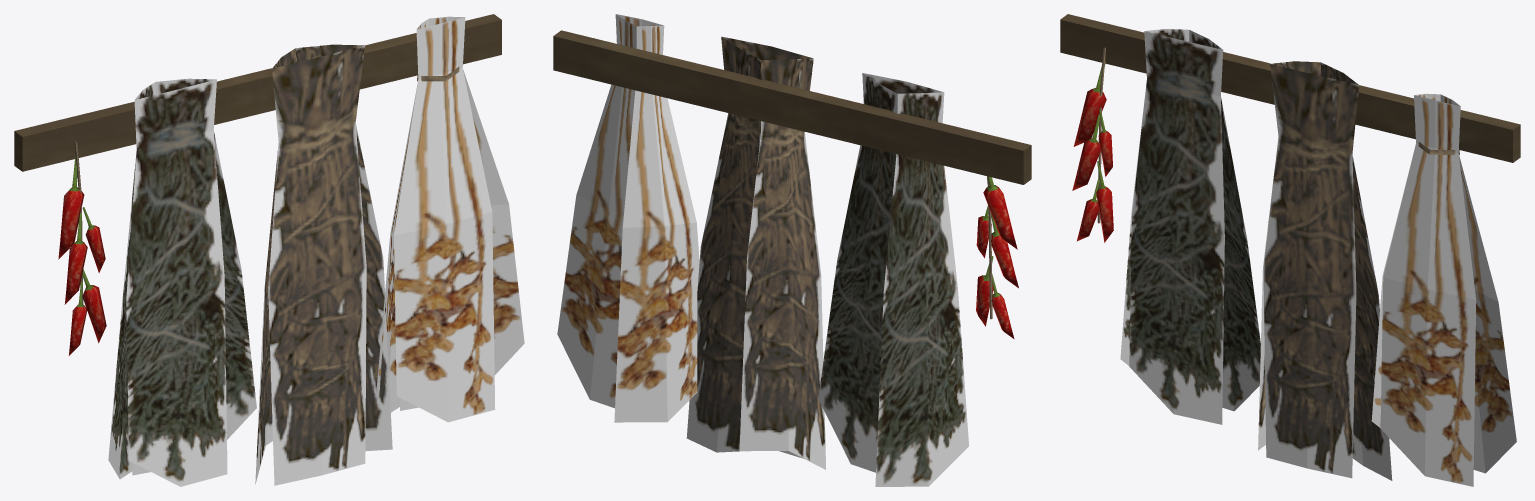
The model's file is herb-drying-hanger.glb.
The picture shows the model from 3 angles, left to right: view 1: azimuth 30°, elevation 25°; view 2: azimuth 150°, elevation 25°; view 3: azimuth 330°, elevation 25°; orthographic projection. The views are drawn at different scales.
Parts seen in each view (by area): view 1: herb-drying-hanger; view 2: herb-drying-hanger; view 3: herb-drying-hanger.
Part boxes in pixels (x1,y1,x2,y2): herb-drying-hanger: [14, 14, 524, 486]; herb-drying-hanger: [553, 14, 1031, 486]; herb-drying-hanger: [1060, 14, 1520, 486].
Bounding box in the file's own units: 0.6971 × 0.5616 × 0.0894.
Materials: 2 (2 with a texture image).
